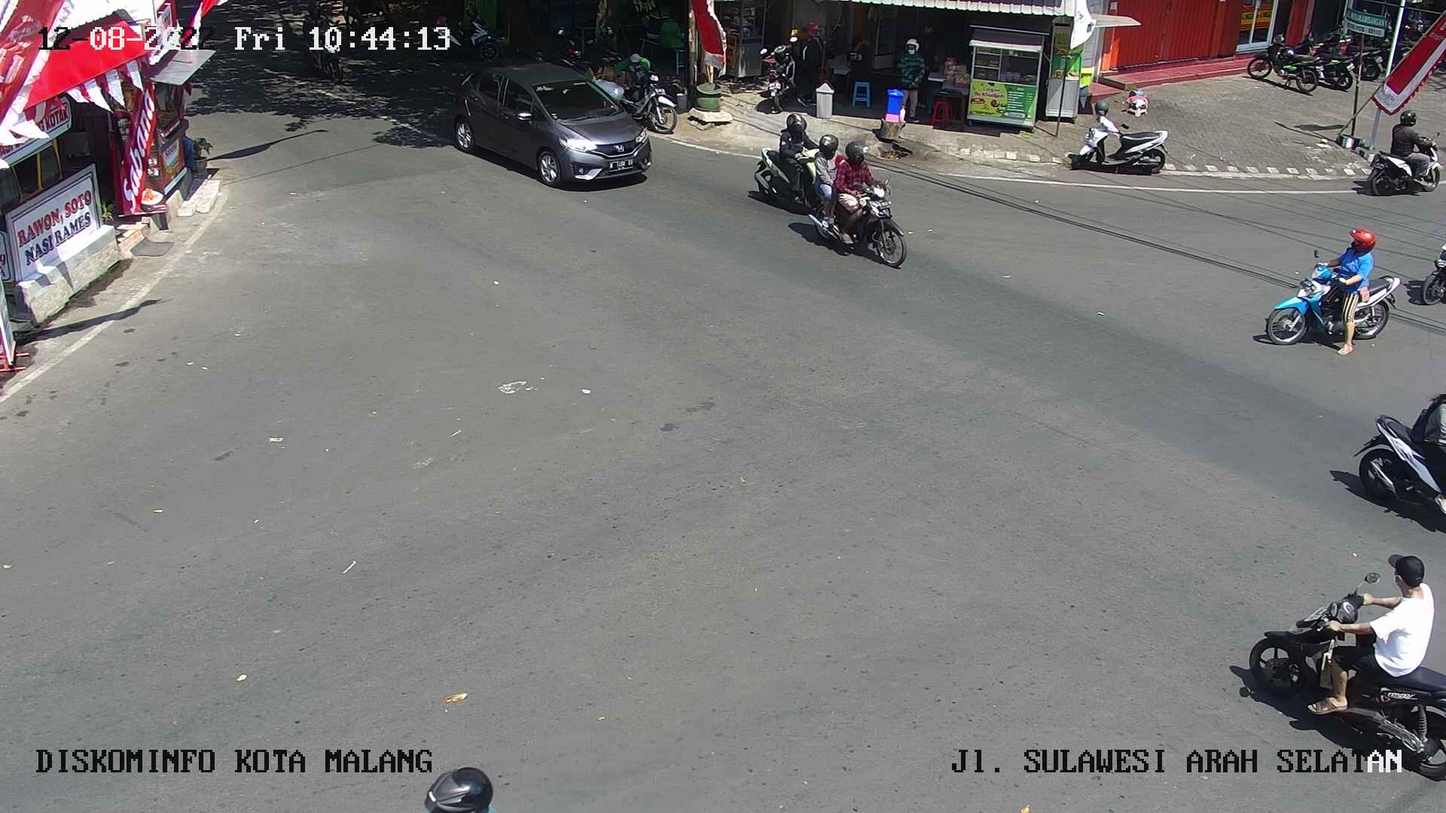with_helmet: (1260, 215, 1394, 371), (740, 87, 819, 219), (846, 138, 914, 276), (804, 128, 851, 234)
without_helmet: (1243, 546, 1446, 797)
